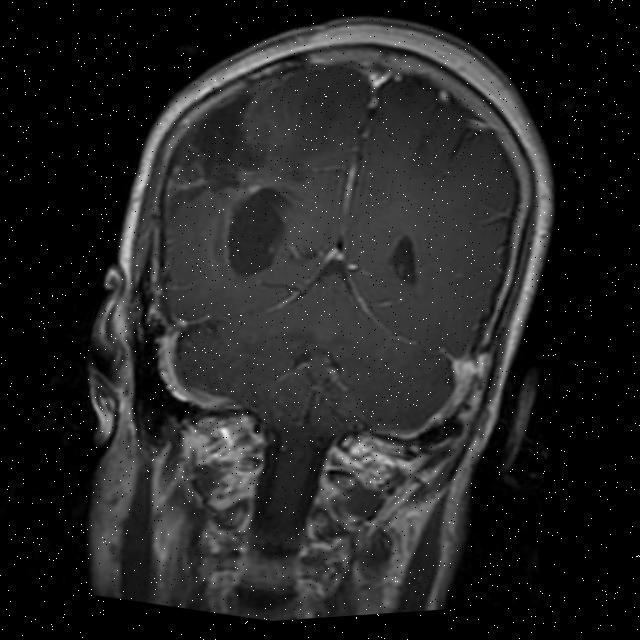Glioma: (161, 77, 282, 229)
